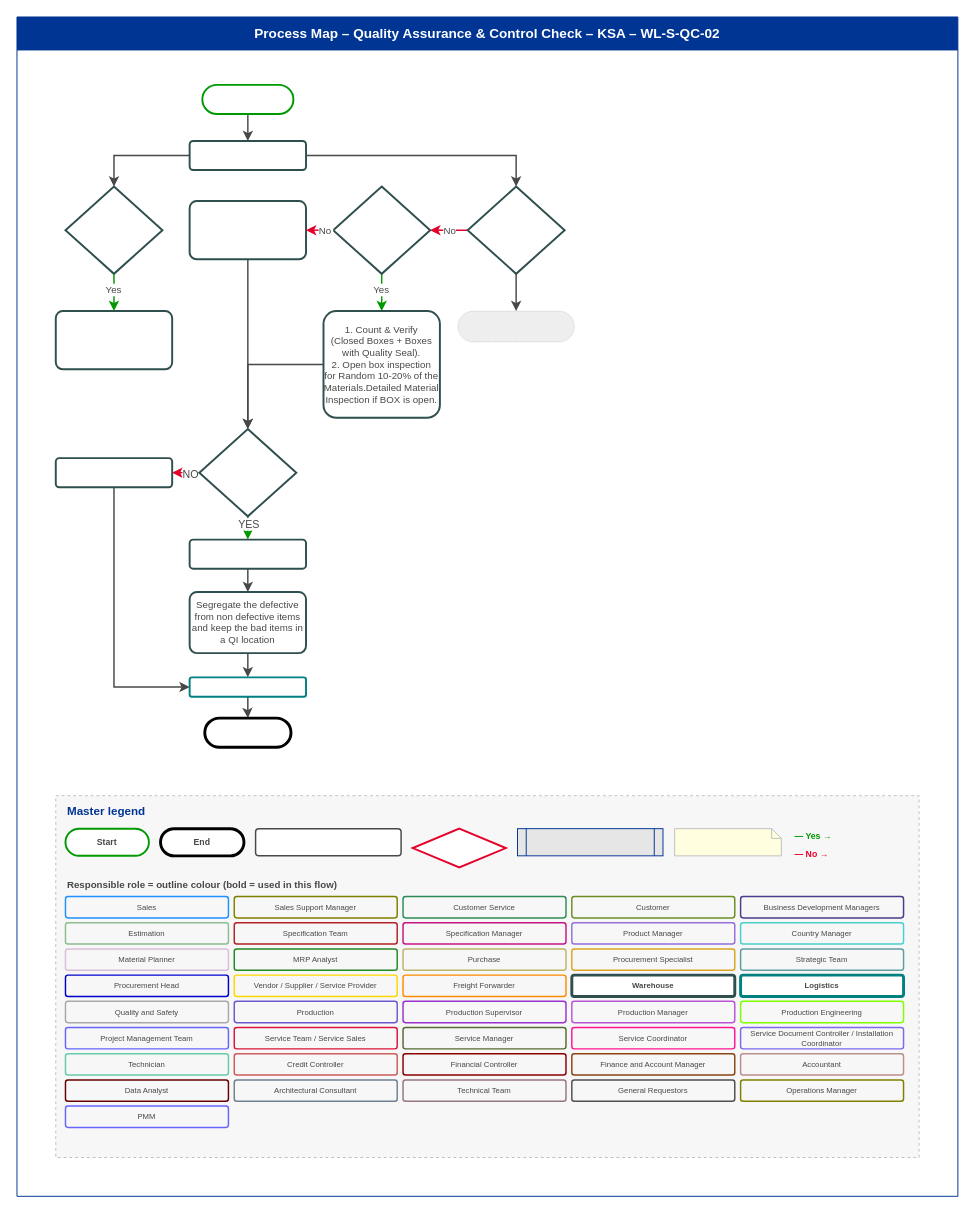
Image size: 975x1213. Some labels were removed from this diagram. Here are the shapes that lost their labels. From the top down, the centre of each, then its label:
pixel 247 98: 2Q CHECK
pixel 247 155: Request for 2Q Check
pixel 113 229: Material from Return Order
pixel 247 230: Open box inspection for Random 10-20% of the Materials. Full Shipment Count
pixel 381 229: From trusted Supplier / WH Stock Picked
pixel 515 229: Fragile ?
pixel 113 340: Complete Shipment/ Packaging to be inspected for damage and missing
pixel 515 326: FRAGILE HANDLING Ref S#: WL-S-FH-02
pixel 113 472: Proceed with the next process
pixel 247 472: with defects?
pixel 247 553: Perform 100% inspection and raise an NCR
pixel 247 686: 2Q Results
pixel 247 732: RETURN
pixel 327 842: Activity (outline = role)
pixel 458 847: Decision
pixel 590 842: Linked process (Ref ID)
pixel 727 842: Note / checklist
